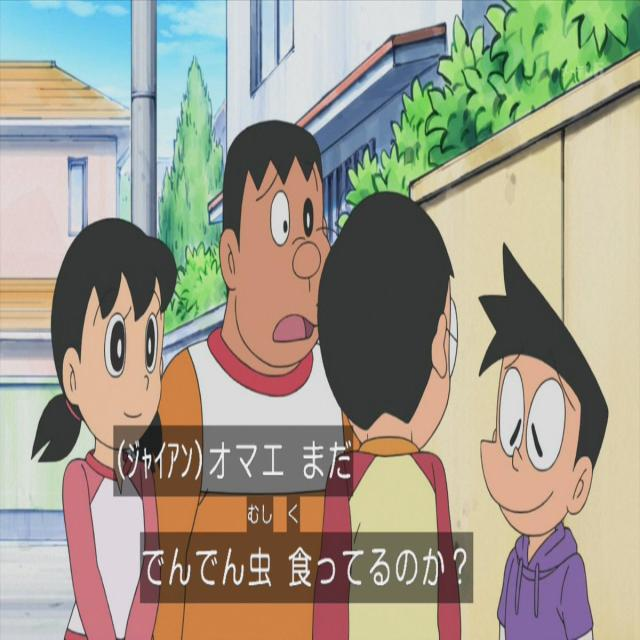jaian: (210, 115, 336, 384)
shizuka: (30, 204, 184, 485)
suneo: (472, 245, 611, 562)
